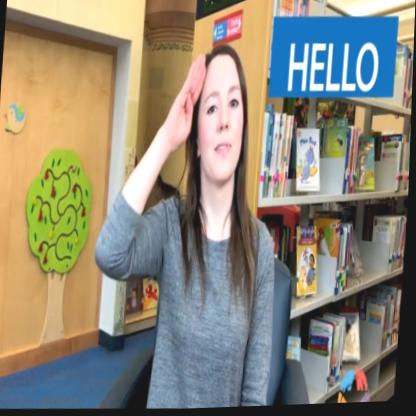Hello: (148, 51, 251, 239)
